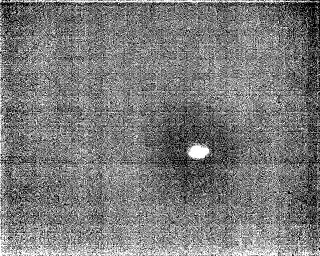AIRPLANE: (185, 140, 212, 162)
